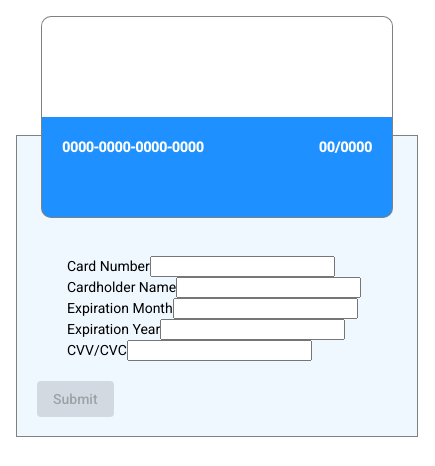
Test case: Number input › TC01 - when input is noting should show error massage
The image size is (435, 466).
Click the field with id "number-input": (243, 267) x1=150 y1=256 x2=335 y2=277
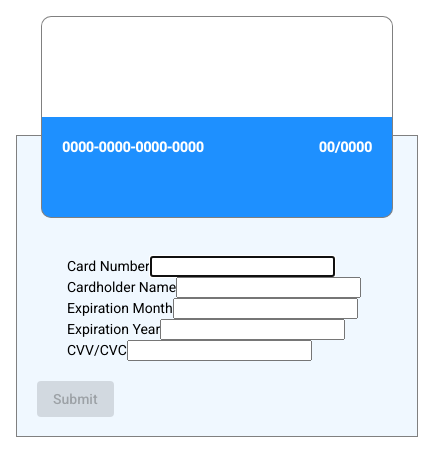
Click the field with id "name-input": (269, 288) x1=176 y1=277 x2=361 y2=298
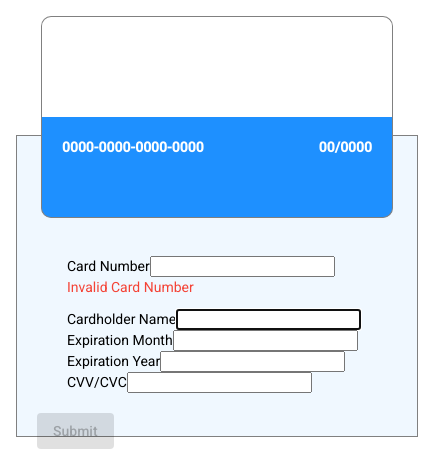
expect the text with id "number-input-error" reads "Invalid Card Number": met, box x1=67 y1=279 x2=194 y2=295
